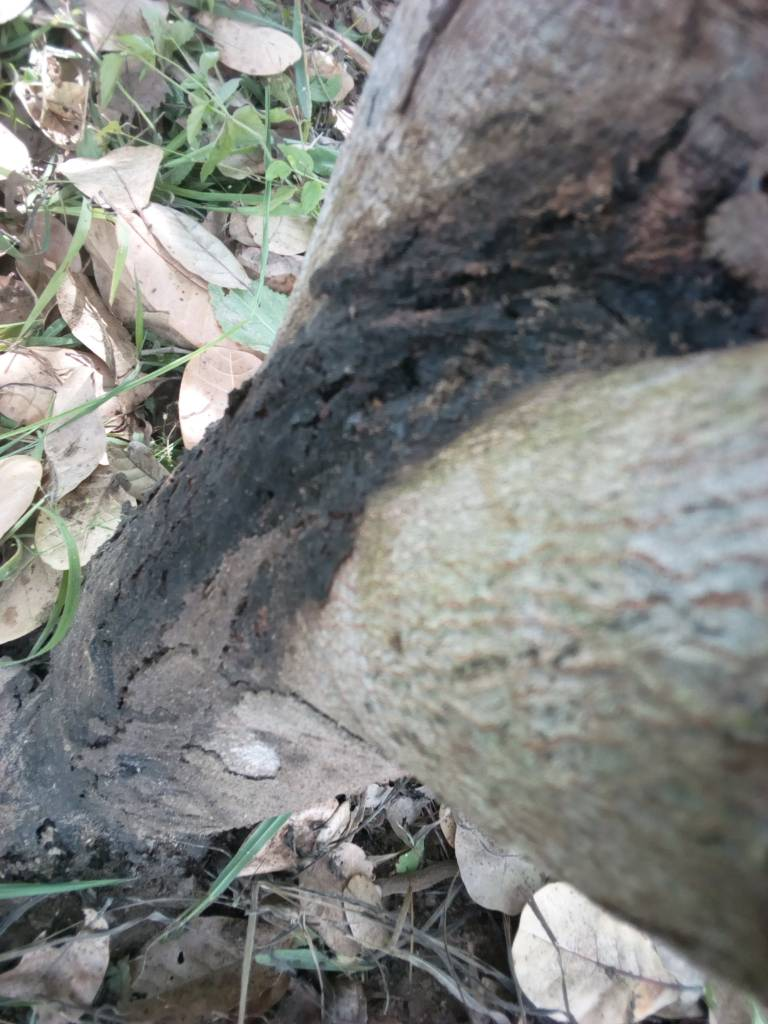Gommose: (94, 169, 652, 671)
